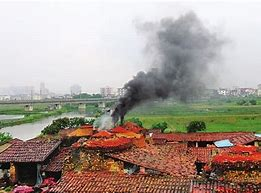smoke: (114, 9, 211, 117)
